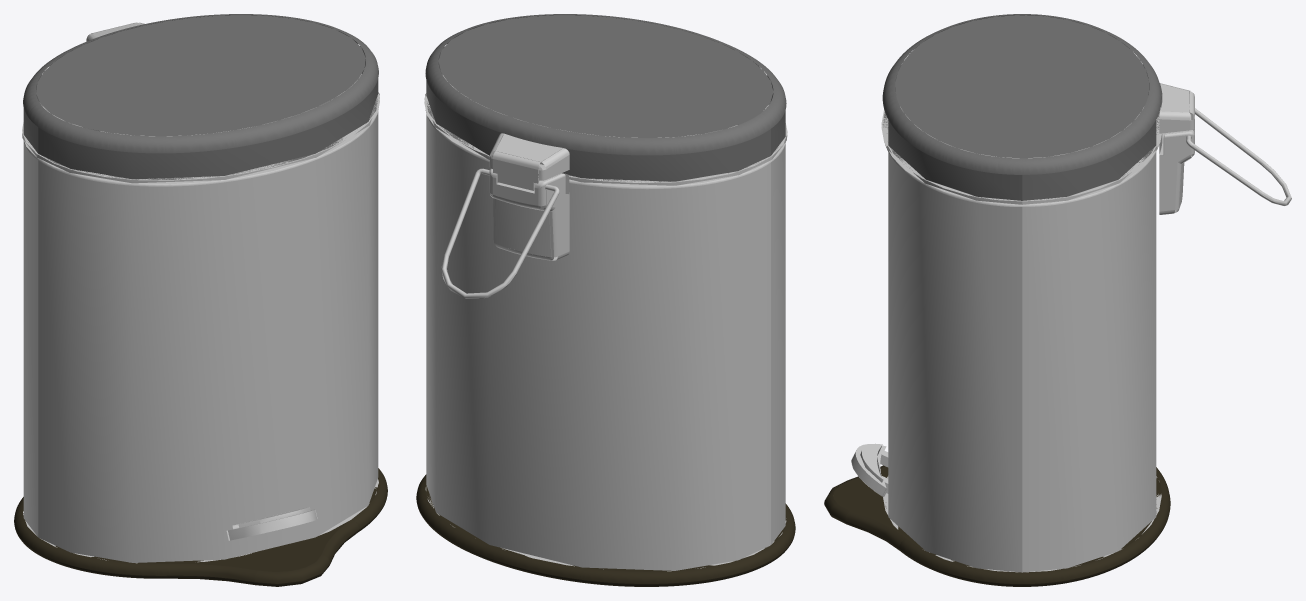
3 views of the same model, side by side, from view 1: azimuth 30°, elevation 25°; view 2: azimuth 150°, elevation 25°; view 3: azimuth 270°, elevation 25° (orthographic). The views are drawn at different scales.
Parts seen in each view (by area): view 1: mesh10_mesh10-geometry, mesh35_mesh35-geometry, mesh25_mesh25-geometry, mesh23_mesh23-geometry, mesh11_mesh11-geometry, mesh4_mesh4-geometry, mesh12_mesh12-geometry, mesh31_mesh31-geometry, mesh14_mesh14-geometry, mesh2_mesh2-geometry, mesh33_mesh33-geometry, mesh1_mesh1-geometry (+5 smaller); view 2: mesh11_mesh11-geometry, mesh35_mesh35-geometry, mesh24_mesh24-geometry, mesh31_mesh31-geometry, mesh10_mesh10-geometry, mesh4_mesh4-geometry, mesh64_mesh64-geometry, mesh23_mesh23-geometry, mesh110_mesh110-geometry, mesh5_mesh5-geometry, mesh95_mesh95-geometry, mesh111_mesh111-geometry (+9 smaller); view 3: mesh10_mesh10-geometry, mesh11_mesh11-geometry, mesh35_mesh35-geometry, mesh4_mesh4-geometry, mesh31_mesh31-geometry, mesh25_mesh25-geometry, mesh24_mesh24-geometry, mesh23_mesh23-geometry, mesh12_mesh12-geometry, mesh95_mesh95-geometry, mesh5_mesh5-geometry, mesh3_mesh3-geometry (+2 smaller).
Boxes of the visible parts, bbox=[...] form: mesh10_mesh10-geometry: bbox=[38, 112, 378, 562]; mesh35_mesh35-geometry: bbox=[36, 15, 365, 136]; mesh25_mesh25-geometry: bbox=[38, 51, 378, 179]; mesh23_mesh23-geometry: bbox=[28, 47, 378, 153]; mesh11_mesh11-geometry: bbox=[23, 141, 38, 536]; mesh4_mesh4-geometry: bbox=[14, 468, 387, 575]; mesh12_mesh12-geometry: bbox=[24, 484, 378, 571]; mesh31_mesh31-geometry: bbox=[23, 14, 369, 116]; mesh14_mesh14-geometry: bbox=[28, 109, 378, 186]; mesh2_mesh2-geometry: bbox=[169, 563, 257, 581]; mesh33_mesh33-geometry: bbox=[228, 510, 317, 540]; mesh1_mesh1-geometry: bbox=[254, 555, 329, 583]; mesh11_mesh11-geometry: bbox=[426, 114, 770, 570]; mesh35_mesh35-geometry: bbox=[438, 15, 773, 137]; mesh24_mesh24-geometry: bbox=[426, 52, 770, 181]; mesh31_mesh31-geometry: bbox=[425, 30, 755, 155]; mesh10_mesh10-geometry: bbox=[771, 144, 785, 544]; mesh4_mesh4-geometry: bbox=[416, 474, 795, 583]; mesh64_mesh64-geometry: bbox=[493, 198, 553, 257]; mesh23_mesh23-geometry: bbox=[457, 14, 786, 137]; mesh110_mesh110-geometry: bbox=[490, 146, 569, 190]; mesh5_mesh5-geometry: bbox=[418, 484, 793, 586]; mesh95_mesh95-geometry: bbox=[546, 176, 569, 256]; mesh111_mesh111-geometry: bbox=[496, 133, 562, 161]; mesh10_mesh10-geometry: bbox=[888, 152, 1022, 572]; mesh11_mesh11-geometry: bbox=[1022, 152, 1156, 572]; mesh35_mesh35-geometry: bbox=[895, 15, 1149, 158]; mesh4_mesh4-geometry: bbox=[899, 467, 1170, 583]; mesh31_mesh31-geometry: bbox=[997, 15, 1161, 174]; mesh25_mesh25-geometry: bbox=[888, 65, 1022, 200]; mesh24_mesh24-geometry: bbox=[1022, 65, 1156, 200]; mesh23_mesh23-geometry: bbox=[882, 14, 1044, 173]; mesh12_mesh12-geometry: bbox=[833, 466, 1161, 572]; mesh95_mesh95-geometry: bbox=[1159, 133, 1190, 211]; mesh5_mesh5-geometry: bbox=[899, 475, 1168, 586]; mesh3_mesh3-geometry: bbox=[845, 510, 905, 547].
Size of the model in its own units: 0.5006 by 0.6102 by 0.614.
